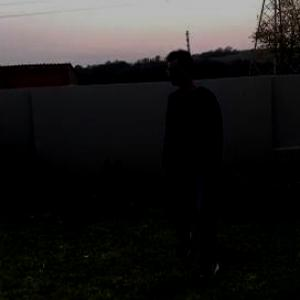follow: (162, 43, 228, 278)
